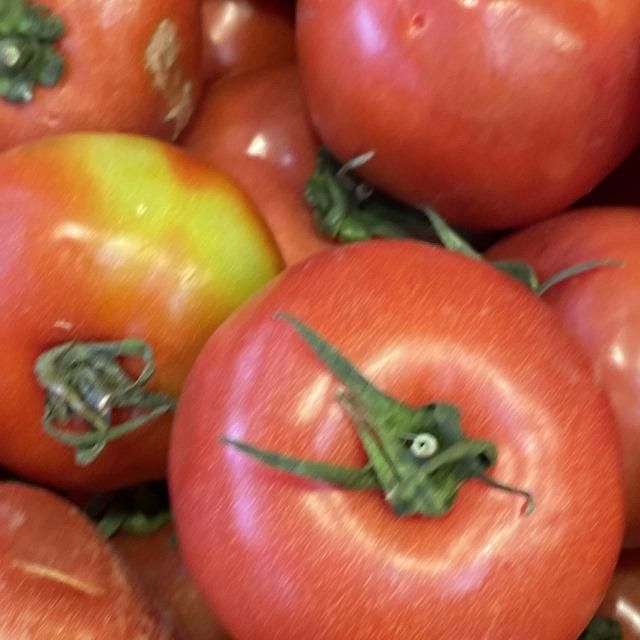tomato: (120, 227, 640, 640), (0, 117, 280, 480), (262, 0, 640, 230), (0, 0, 217, 200)
